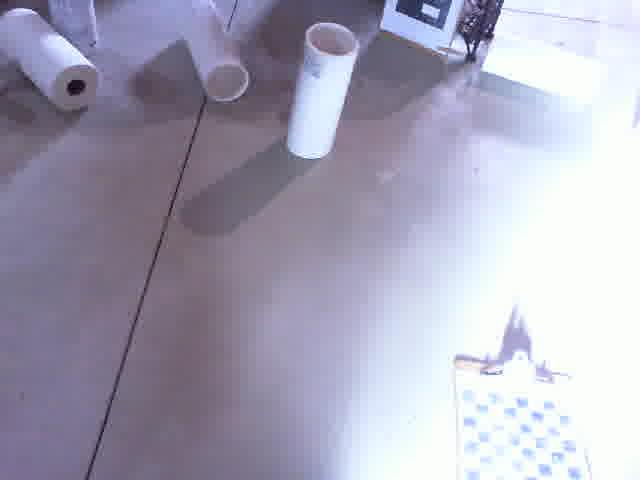coral: (478, 26, 612, 111), (287, 19, 360, 166), (168, 0, 254, 106)
